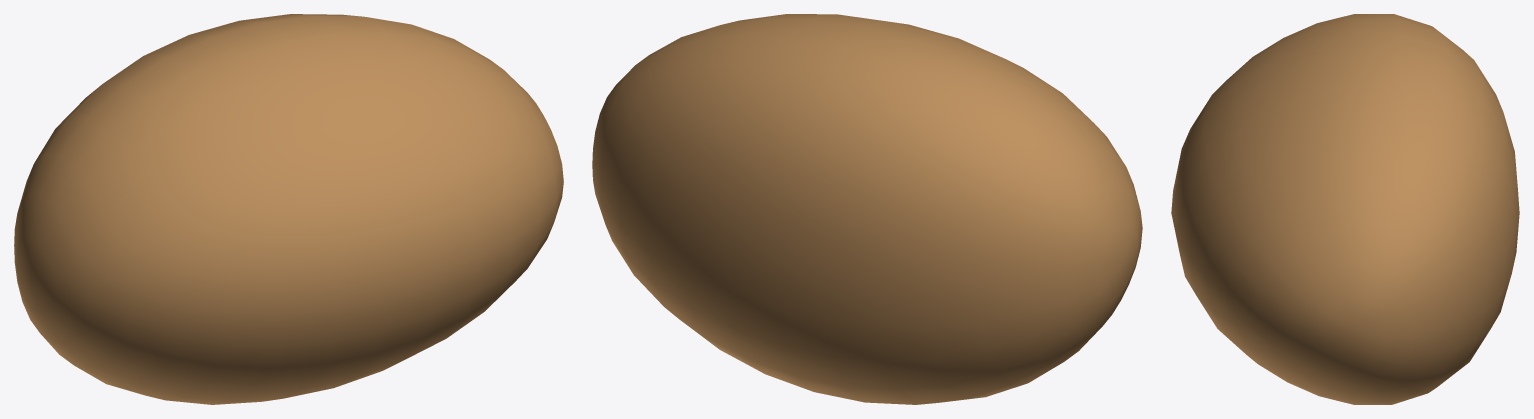
Rendered from Potato.fbx.
3 views of the same model, side by side, from view 1: azimuth 30°, elevation 25°; view 2: azimuth 150°, elevation 25°; view 3: azimuth 270°, elevation 25° (orthographic). The views are drawn at different scales.
Parts seen in each view (by area): view 1: Potato; view 2: Potato; view 3: Potato.
Part boxes in pixels (bbox=[...]): Potato: bbox=[14, 14, 563, 404]; Potato: bbox=[592, 14, 1142, 404]; Potato: bbox=[1171, 14, 1519, 404].
Bounding box in the file's own units: 0.11 × 0.07 × 0.07.
